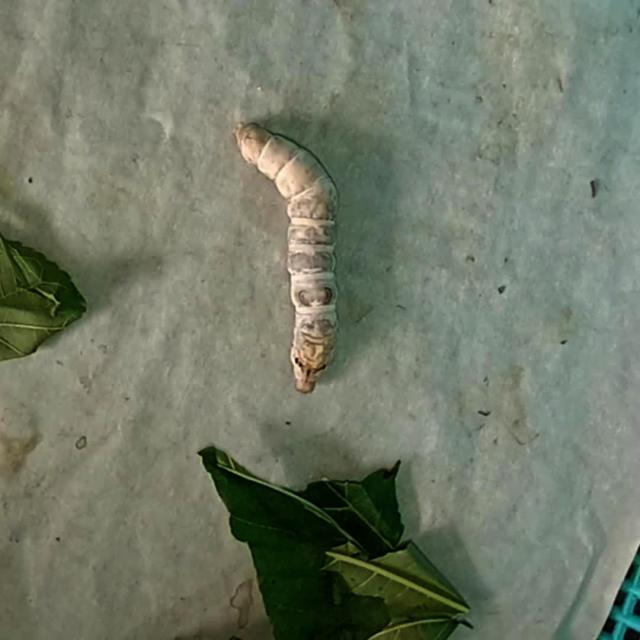Grasserie: (217, 89, 390, 418)
